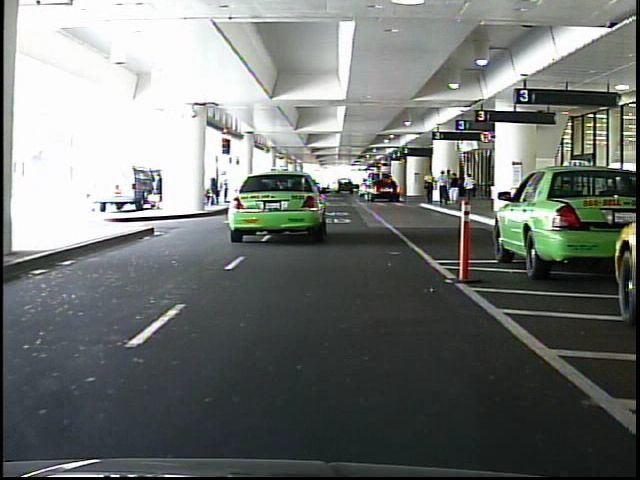person: (462, 169, 480, 210), (422, 167, 438, 209), (438, 165, 452, 209), (449, 172, 461, 212)
